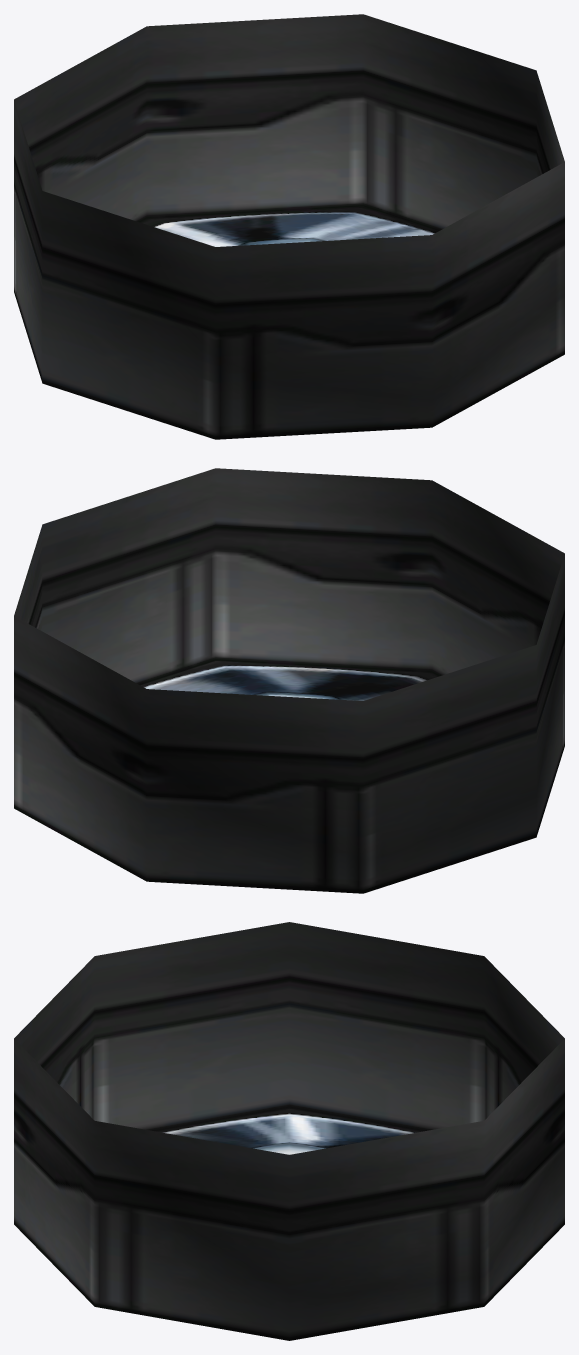
The model's file is lamp2.glb.
The picture shows the model from 3 angles, top to bottom: view 1: azimuth 30°, elevation 25°; view 2: azimuth 150°, elevation 25°; view 3: azimuth 270°, elevation 25°; orthographic projection. The views are drawn at different scales.
Parts seen in each view (by area): view 1: Cylinder16; view 2: Cylinder16; view 3: Cylinder16.
Boxes of the visible parts, bbox=[...] form: Cylinder16: bbox=[14, 14, 564, 439]; Cylinder16: bbox=[14, 468, 564, 893]; Cylinder16: bbox=[14, 922, 564, 1340].
Bounding box in the file's own units: 18.73 × 6.98 × 18.73.
1 material, 1 textured.
